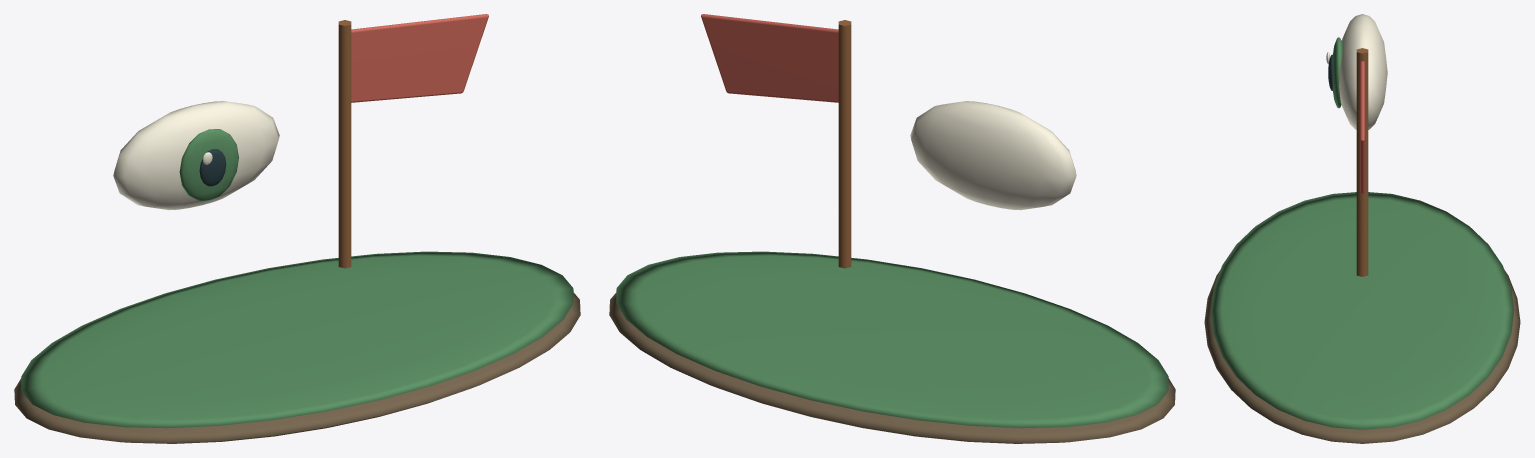
The model's file is here-now.glb.
The picture shows the model from 3 angles, left to right: view 1: azimuth 30°, elevation 25°; view 2: azimuth 150°, elevation 25°; view 3: azimuth 270°, elevation 25°; orthographic projection. The views are drawn at different scales.
Visible parts, largest first — view 1: here-now_surface_01, here-now_surface_02, here-now_surface_00, here-now_surface_05, here-now_surface_04, here-now_surface_03; view 2: here-now_surface_01, here-now_surface_02, here-now_surface_00, here-now_surface_05, here-now_surface_04; view 3: here-now_surface_01, here-now_surface_00, here-now_surface_02, here-now_surface_04, here-now_surface_05.
Boxes of the visible parts, x1,y1,x2,y2 form: here-now_surface_01: [21, 129, 573, 428]; here-now_surface_02: [113, 101, 279, 210]; here-now_surface_00: [14, 293, 580, 443]; here-now_surface_05: [351, 14, 488, 102]; here-now_surface_04: [338, 20, 351, 268]; here-now_surface_03: [199, 149, 226, 186]; here-now_surface_01: [616, 251, 1168, 428]; here-now_surface_02: [910, 101, 1076, 210]; here-now_surface_00: [609, 293, 1175, 443]; here-now_surface_05: [701, 14, 838, 102]; here-now_surface_04: [838, 20, 851, 268]; here-now_surface_01: [1211, 37, 1513, 429]; here-now_surface_00: [1204, 271, 1520, 443]; here-now_surface_02: [1326, 14, 1387, 129]; here-now_surface_04: [1356, 48, 1368, 276]; here-now_surface_05: [1360, 61, 1364, 193].
Bounding box in the file's own units: 4.56 × 2.69 × 2.5.
